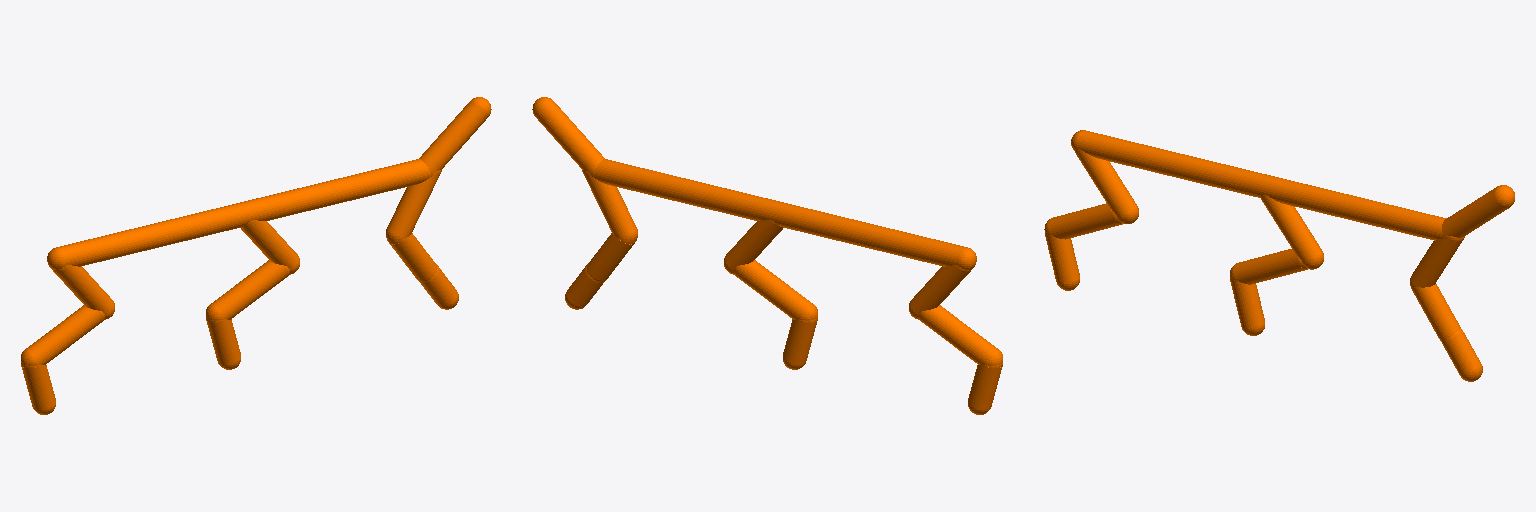
URDF robot description (converted_robot):
<?xml version='1.0' encoding='utf-8'?>
<robot name="converted_robot">
   
   <link name="world">
      <inertial>
         <origin xyz="0.0 0.0 0.0" rpy="0.0 0.0 0.0" />
         <mass value="0.0" />
         <inertia ixx="0.0" iyy="0.0" izz="0.0" ixy="0" ixz="0" iyz="0" />
      </inertial>
   </link>
   <link name="torso">
      <inertial>
         <origin xyz="0.16077785102175343 0.0 0.017864205669083713" rpy="1.5248001360530306 0.0 1.5707963267948966" />
         <mass value="5.963217745332024" />
         <inertia ixx="1.859423300146082" iyy="1.849936245078124" izz="0.01571961528135071" ixy="0" ixz="0" iyz="0" />
      </inertial>
   <visual><origin xyz="0.0 0.0 0.0" rpy="0.0 1.5707963267948966 0.0" /><geometry><cylinder radius="0.046" length="1.6" /></geometry><material name="torso_material"><color rgba="1.0 0.5 0.0 1.0" /></material></visual><visual><origin xyz="0.8 0.0 4.898587196589413e-17" rpy="0 0 0" /><geometry><sphere radius="0.046" /></geometry><material name="torso_material"><color rgba="1.0 0.5 0.0 1.0" /></material></visual><visual><origin xyz="-0.8 0.0 -4.898587196589413e-17" rpy="0 0 0" /><geometry><sphere radius="0.046" /></geometry><material name="torso_material"><color rgba="1.0 0.5 0.0 1.0" /></material></visual><visual><origin xyz="0.9 0.0 0.1" rpy="0.0 0.8726646259971648 0.0" /><geometry><cylinder radius="0.046" length="0.3" /></geometry><material name="head_material"><color rgba="1.0 0.5 0.0 1.0" /></material></visual><visual><origin xyz="1.0149066664678468 0.0 0.19641814145298092" rpy="0 0 0" /><geometry><sphere radius="0.046" /></geometry><material name="head_material"><color rgba="1.0 0.5 0.0 1.0" /></material></visual><visual><origin xyz="0.7850933335321533 0.0 0.003581858547019104" rpy="0 0 0" /><geometry><sphere radius="0.046" /></geometry><material name="head_material"><color rgba="1.0 0.5 0.0 1.0" /></material></visual></link>
   <link name="rootx_jointbody">
      <inertial>
         <origin xyz="0.0 0.0 0.0" rpy="0.0 0.0 0.0" />
         <mass value="0.001" />
         <inertia ixx="1e-09" iyy="1e-09" izz="1e-09" ixy="0" ixz="0" iyz="0" />
      </inertial>
   </link>
   <joint type="fixed" name="rootx">
      <parent link="world" />
      <child link="rootx_jointbody" />
      <origin xyz="0.0 0.0 0.7" rpy="0.0 0.0 0.0" />
   </joint>
   <link name="rootz_jointbody">
      <inertial>
         <origin xyz="0.0 0.0 0.0" rpy="0.0 0.0 0.0" />
         <mass value="0.001" />
         <inertia ixx="1e-09" iyy="1e-09" izz="1e-09" ixy="0" ixz="0" iyz="0" />
      </inertial>
   </link>
   <joint type="fixed" name="rootz">
      <parent link="rootx_jointbody" />
      <child link="rootz_jointbody" />
      <origin xyz="0.0 0.0 0.0" rpy="0.0 0.0 0.0" />
   </joint>
   <link name="rooty_jointbody">
      <inertial>
         <origin xyz="0.0 0.0 0.0" rpy="0.0 0.0 0.0" />
         <mass value="0.001" />
         <inertia ixx="1e-09" iyy="1e-09" izz="1e-09" ixy="0" ixz="0" iyz="0" />
      </inertial>
   </link>
   <joint type="revolute" name="rooty">
      <parent link="rootz_jointbody" />
      <child link="rooty_jointbody" />
      <origin xyz="0.0 0.0 0.0" rpy="0.0 0.0 0.0" />
      <axis xyz="0.0 1.0 0.0" />
      <limit lower="0.0" upper="0.0" effort="100" velocity="100" />
   </joint>
   <joint type="fixed" name="rooty_offset">
      <parent link="rooty_jointbody" />
      <child link="torso" />
      <origin xyz="-0.0 -0.0 -0.0" rpy="0.0 0.0 0.0" />
   </joint>
   <link name="bthigh">
      <inertial>
         <origin xyz="0.1 0.0 -0.13" rpy="3.141592653589793 0.6632251157578448 3.141592653589793" />
         <mass value="1.035799522673031" />
         <inertia ixx="0.011303656212270112" iyy="0.011303656212270112" izz="0.0010576138144040431" ixy="0" ixz="0" iyz="0" />
      </inertial>
   <visual><origin xyz="0.1 0.0 -0.13" rpy="0.0 -3.8048177693476384 0.0" /><geometry><cylinder radius="0.046" length="0.29" /></geometry><material name="bthigh_material"><color rgba="1.0 0.5 0.0 1.0" /></material></visual><visual><origin xyz="0.18927091392222045 0.0 -0.2442615592729747" rpy="0 0 0" /><geometry><sphere radius="0.046" /></geometry><material name="bthigh_material"><color rgba="1.0 0.5 0.0 1.0" /></material></visual><visual><origin xyz="0.010729086077779573 0.0 -0.01573844072702532" rpy="0 0 0" /><geometry><sphere radius="0.046" /></geometry><material name="bthigh_material"><color rgba="1.0 0.5 0.0 1.0" /></material></visual></link>
   <link name="bthigh_jointbody">
      <inertial>
         <origin xyz="0.0 0.0 0.0" rpy="0.0 0.0 0.0" />
         <mass value="0.001" />
         <inertia ixx="1e-09" iyy="1e-09" izz="1e-09" ixy="0" ixz="0" iyz="0" />
      </inertial>
   </link>
   <joint type="revolute" name="bthigh">
      <parent link="torso" />
      <child link="bthigh_jointbody" />
      <origin xyz="-0.8 0.0 0.0" rpy="0.0 0.0 0.0" />
      <axis xyz="0.0 1.0 0.0" />
      <limit lower="-0.5235987755982988" upper="1.0471975511965976" effort="100" velocity="100" />
   </joint>
   <joint type="fixed" name="bthigh_offset">
      <parent link="bthigh_jointbody" />
      <child link="bthigh" />
      <origin xyz="-0.0 -0.0 -0.0" rpy="0.0 0.0 0.0" />
   </joint>
   <link name="bshin">
      <inertial>
         <origin xyz="-0.14 0.0 -0.07" rpy="3.141592653589793 -1.117010721276371 3.141592653589793" />
         <mass value="1.0652814825214094" />
         <inertia ixx="0.012258635855678785" iyy="0.012258635855678785" izz="0.0010888057279236274" ixy="0" ixz="0" iyz="0" />
      </inertial>
   <visual><origin xyz="-0.14 0.0 -0.07" rpy="0.0 -2.0245819323134224 0.0" /><geometry><cylinder radius="0.046" length="0.3" /></geometry><material name="bshin_material"><color rgba="1.0 0.5 0.0 1.0" /></material></visual><visual><origin xyz="-0.27481910694487505 0.0 -0.13575567201836164" rpy="0 0 0" /><geometry><sphere radius="0.046" /></geometry><material name="bshin_material"><color rgba="1.0 0.5 0.0 1.0" /></material></visual><visual><origin xyz="-0.00518089305512498 0.0 -0.004244327981638388" rpy="0 0 0" /><geometry><sphere radius="0.046" /></geometry><material name="bshin_material"><color rgba="1.0 0.5 0.0 1.0" /></material></visual></link>
   <link name="bshin_jointbody">
      <inertial>
         <origin xyz="0.0 0.0 0.0" rpy="0.0 0.0 0.0" />
         <mass value="0.001" />
         <inertia ixx="1e-09" iyy="1e-09" izz="1e-09" ixy="0" ixz="0" iyz="0" />
      </inertial>
   </link>
   <joint type="revolute" name="bshin">
      <parent link="bthigh" />
      <child link="bshin_jointbody" />
      <origin xyz="0.16 0.0 -0.25" rpy="0.0 0.0 0.0" />
      <axis xyz="0.0 1.0 0.0" />
      <limit lower="-0.8726646259971648" upper="0.8726646259971648" effort="100" velocity="100" />
   </joint>
   <joint type="fixed" name="bshin_offset">
      <parent link="bshin_jointbody" />
      <child link="bshin" />
      <origin xyz="-0.0 -0.0 -0.0" rpy="0.0 0.0 0.0" />
   </joint>
   <link name="bfoot">
      <inertial>
         <origin xyz="0.03 0.0 -0.097" rpy="0.0 -0.26179938779914935 0.0" />
         <mass value="0.7350835322195705" />
         <inertia ixx="0.004262892489119753" iyy="0.004262892489119753" izz="0.000739456296504282" ixy="0" ixz="0" iyz="0" />
      </inertial>
   <visual><origin xyz="0.03 0.0 -0.097" rpy="0.0 -0.2617993877991494 0.0" /><geometry><cylinder radius="0.046" length="0.188" /></geometry><material name="bfoot_material"><color rgba="1.0 0.5 0.0 1.0" /></material></visual><visual><origin xyz="0.005671009760363048 0.0 -0.006202972328827577" rpy="0 0 0" /><geometry><sphere radius="0.046" /></geometry><material name="bfoot_material"><color rgba="1.0 0.5 0.0 1.0" /></material></visual><visual><origin xyz="0.05432899023963695 0.0 -0.18779702767117243" rpy="0 0 0" /><geometry><sphere radius="0.046" /></geometry><material name="bfoot_material"><color rgba="1.0 0.5 0.0 1.0" /></material></visual></link>
   <link name="bfoot_jointbody">
      <inertial>
         <origin xyz="0.0 0.0 0.0" rpy="0.0 0.0 0.0" />
         <mass value="0.001" />
         <inertia ixx="1e-09" iyy="1e-09" izz="1e-09" ixy="0" ixz="0" iyz="0" />
      </inertial>
   </link>
   <joint type="revolute" name="bfoot">
      <parent link="bshin" />
      <child link="bfoot_jointbody" />
      <origin xyz="-0.28 0.0 -0.14" rpy="0.0 0.0 0.0" />
      <axis xyz="0.0 1.0 0.0" />
      <limit lower="-4.014257279586958" upper="0.8726646259971648" effort="100" velocity="100" />
   </joint>
   <joint type="fixed" name="bfoot_offset">
      <parent link="bfoot_jointbody" />
      <child link="bfoot" />
      <origin xyz="-0.0 -0.0 -0.0" rpy="0.0 0.0 0.0" />
   </joint>
   <link name="mthigh">
      <inertial>
         <origin xyz="0.1 0.0 -0.13" rpy="3.141592653589793 0.6632251157578448 3.141592653589793" />
         <mass value="1.035799522673031" />
         <inertia ixx="0.011303656212270112" iyy="0.011303656212270112" izz="0.0010576138144040431" ixy="0" ixz="0" iyz="0" />
      </inertial>
   <visual><origin xyz="0.1 0.0 -0.13" rpy="0.0 -3.8048177693476384 0.0" /><geometry><cylinder radius="0.046" length="0.29" /></geometry><material name="mthigh_material"><color rgba="1.0 0.5 0.0 1.0" /></material></visual><visual><origin xyz="0.18927091392222045 0.0 -0.2442615592729747" rpy="0 0 0" /><geometry><sphere radius="0.046" /></geometry><material name="mthigh_material"><color rgba="1.0 0.5 0.0 1.0" /></material></visual><visual><origin xyz="0.010729086077779573 0.0 -0.01573844072702532" rpy="0 0 0" /><geometry><sphere radius="0.046" /></geometry><material name="mthigh_material"><color rgba="1.0 0.5 0.0 1.0" /></material></visual></link>
   <link name="mthigh_jointbody">
      <inertial>
         <origin xyz="0.0 0.0 0.0" rpy="0.0 0.0 0.0" />
         <mass value="0.001" />
         <inertia ixx="1e-09" iyy="1e-09" izz="1e-09" ixy="0" ixz="0" iyz="0" />
      </inertial>
   </link>
   <joint type="revolute" name="mthigh">
      <parent link="torso" />
      <child link="mthigh_jointbody" />
      <origin xyz="0.0 0.0 0.0" rpy="0.0 0.0 0.0" />
      <axis xyz="0.0 1.0 0.0" />
      <limit lower="-0.5235987755982988" upper="1.0471975511965976" effort="100" velocity="100" />
   </joint>
   <joint type="fixed" name="mthigh_offset">
      <parent link="mthigh_jointbody" />
      <child link="mthigh" />
      <origin xyz="-0.0 -0.0 -0.0" rpy="0.0 0.0 0.0" />
   </joint>
   <link name="mshin">
      <inertial>
         <origin xyz="-0.14 0.0 -0.07" rpy="3.141592653589793 -1.117010721276371 3.141592653589793" />
         <mass value="1.0652814825214094" />
         <inertia ixx="0.012258635855678785" iyy="0.012258635855678785" izz="0.0010888057279236274" ixy="0" ixz="0" iyz="0" />
      </inertial>
   <visual><origin xyz="-0.14 0.0 -0.07" rpy="0.0 -2.0245819323134224 0.0" /><geometry><cylinder radius="0.046" length="0.3" /></geometry><material name="mshin_material"><color rgba="1.0 0.5 0.0 1.0" /></material></visual><visual><origin xyz="-0.27481910694487505 0.0 -0.13575567201836164" rpy="0 0 0" /><geometry><sphere radius="0.046" /></geometry><material name="mshin_material"><color rgba="1.0 0.5 0.0 1.0" /></material></visual><visual><origin xyz="-0.00518089305512498 0.0 -0.004244327981638388" rpy="0 0 0" /><geometry><sphere radius="0.046" /></geometry><material name="mshin_material"><color rgba="1.0 0.5 0.0 1.0" /></material></visual></link>
   <link name="mshin_jointbody">
      <inertial>
         <origin xyz="0.0 0.0 0.0" rpy="0.0 0.0 0.0" />
         <mass value="0.001" />
         <inertia ixx="1e-09" iyy="1e-09" izz="1e-09" ixy="0" ixz="0" iyz="0" />
      </inertial>
   </link>
   <joint type="revolute" name="mshin">
      <parent link="mthigh" />
      <child link="mshin_jointbody" />
      <origin xyz="0.16 0.0 -0.25" rpy="0.0 0.0 0.0" />
      <axis xyz="0.0 1.0 0.0" />
      <limit lower="-0.8726646259971648" upper="0.8726646259971648" effort="100" velocity="100" />
   </joint>
   <joint type="fixed" name="mshin_offset">
      <parent link="mshin_jointbody" />
      <child link="mshin" />
      <origin xyz="-0.0 -0.0 -0.0" rpy="0.0 0.0 0.0" />
   </joint>
   <link name="mfoot">
      <inertial>
         <origin xyz="0.03 0.0 -0.097" rpy="0.0 -0.26179938779914935 0.0" />
         <mass value="0.7350835322195705" />
         <inertia ixx="0.004262892489119753" iyy="0.004262892489119753" izz="0.000739456296504282" ixy="0" ixz="0" iyz="0" />
      </inertial>
   <visual><origin xyz="0.03 0.0 -0.097" rpy="0.0 -0.2617993877991494 0.0" /><geometry><cylinder radius="0.046" length="0.188" /></geometry><material name="mfoot_material"><color rgba="1.0 0.5 0.0 1.0" /></material></visual><visual><origin xyz="0.005671009760363048 0.0 -0.006202972328827577" rpy="0 0 0" /><geometry><sphere radius="0.046" /></geometry><material name="mfoot_material"><color rgba="1.0 0.5 0.0 1.0" /></material></visual><visual><origin xyz="0.05432899023963695 0.0 -0.18779702767117243" rpy="0 0 0" /><geometry><sphere radius="0.046" /></geometry><material name="mfoot_material"><color rgba="1.0 0.5 0.0 1.0" /></material></visual></link>
   <link name="mfoot_jointbody">
      <inertial>
         <origin xyz="0.0 0.0 0.0" rpy="0.0 0.0 0.0" />
         <mass value="0.001" />
         <inertia ixx="1e-09" iyy="1e-09" izz="1e-09" ixy="0" ixz="0" iyz="0" />
      </inertial>
   </link>
   <joint type="revolute" name="mfoot">
      <parent link="mshin" />
      <child link="mfoot_jointbody" />
      <origin xyz="-0.28 0.0 -0.14" rpy="0.0 0.0 0.0" />
      <axis xyz="0.0 1.0 0.0" />
      <limit lower="-4.014257279586958" upper="0.8726646259971648" effort="100" velocity="100" />
   </joint>
   <joint type="fixed" name="mfoot_offset">
      <parent link="mfoot_jointbody" />
      <child link="mfoot" />
      <origin xyz="-0.0 -0.0 -0.0" rpy="0.0 0.0 0.0" />
   </joint>
   <link name="fthigh">
      <inertial>
         <origin xyz="-0.07 0.0 -0.12" rpy="0.0 0.5235987755982991 0.0" />
         <mass value="0.9650428190369228" />
         <inertia ixx="0.009220201488137025" iyy="0.009220201488137025" izz="0.0009827532219570407" ixy="0" ixz="0" iyz="0" />
      </inertial>
   <visual><origin xyz="-0.07 0.0 -0.12" rpy="0.0 0.5235987755982988 0.0" /><geometry><cylinder radius="0.046" length="0.266" /></geometry><material name="fthigh_material"><color rgba="1.0 0.5 0.0 1.0" /></material></visual><visual><origin xyz="-0.003500000000000017 0.0 -0.004818621296669642" rpy="0 0 0" /><geometry><sphere radius="0.046" /></geometry><material name="fthigh_material"><color rgba="1.0 0.5 0.0 1.0" /></material></visual><visual><origin xyz="-0.1365 0.0 -0.23518137870333033" rpy="0 0 0" /><geometry><sphere radius="0.046" /></geometry><material name="fthigh_material"><color rgba="1.0 0.5 0.0 1.0" /></material></visual></link>
   <link name="fthigh_jointbody">
      <inertial>
         <origin xyz="0.0 0.0 0.0" rpy="0.0 0.0 0.0" />
         <mass value="0.001" />
         <inertia ixx="1e-09" iyy="1e-09" izz="1e-09" ixy="0" ixz="0" iyz="0" />
      </inertial>
   </link>
   <joint type="revolute" name="fthigh">
      <parent link="torso" />
      <child link="fthigh_jointbody" />
      <origin xyz="0.8 0.0 0.0" rpy="0.0 0.0 0.0" />
      <axis xyz="0.0 1.0 0.0" />
      <limit lower="-0.9948376736367679" upper="0.006981317007977318" effort="100" velocity="100" />
   </joint>
   <joint type="fixed" name="fthigh_offset">
      <parent link="fthigh_jointbody" />
      <child link="fthigh" />
      <origin xyz="-0.0 -0.0 -0.0" rpy="0.0 0.0 0.0" />
   </joint>
   <link name="fshin">
      <inertial>
         <origin xyz="0.065 0.0 -0.09" rpy="0.0 -0.593411945678072 0.0" />
         <mass value="0.8058402358556788" />
         <inertia ixx="0.005517573943563105" iyy="0.005517573943563105" izz="0.0008143168889512844" ixy="0" ixz="0" iyz="0" />
      </inertial>
   <visual><origin xyz="0.065 0.0 -0.09" rpy="0.0 -0.5934119456780721 0.0" /><geometry><cylinder radius="0.046" length="0.212" /></geometry><material name="fshin_material"><color rgba="1.0 0.5 0.0 1.0" /></material></visual><visual><origin xyz="0.005725552232100833 0.0 -0.002122017309165586" rpy="0 0 0" /><geometry><sphere radius="0.046" /></geometry><material name="fshin_material"><color rgba="1.0 0.5 0.0 1.0" /></material></visual><visual><origin xyz="0.12427444776789917 0.0 -0.1778779826908344" rpy="0 0 0" /><geometry><sphere radius="0.046" /></geometry><material name="fshin_material"><color rgba="1.0 0.5 0.0 1.0" /></material></visual></link>
   <link name="fshin_jointbody">
      <inertial>
         <origin xyz="0.0 0.0 0.0" rpy="0.0 0.0 0.0" />
         <mass value="0.001" />
         <inertia ixx="1e-09" iyy="1e-09" izz="1e-09" ixy="0" ixz="0" iyz="0" />
      </inertial>
   </link>
   <joint type="revolute" name="fshin">
      <parent link="fthigh" />
      <child link="fshin_jointbody" />
      <origin xyz="-0.14 0.0 -0.24" rpy="0.0 0.0 0.0" />
      <axis xyz="0.0 1.0 0.0" />
      <limit lower="-1.2217304763960306" upper="0.8726646259971648" effort="100" velocity="100" />
   </joint>
   <joint type="fixed" name="fshin_offset">
      <parent link="fshin_jointbody" />
      <child link="fshin" />
      <origin xyz="-0.0 -0.0 -0.0" rpy="0.0 0.0 0.0" />
   </joint>
   <link name="ffoot">
      <inertial>
         <origin xyz="0.045 0.0 -0.07" rpy="0.0 -0.593411945678072 0.0" />
         <mass value="0.5935701249473536" />
         <inertia ixx="0.0023682638214235574" iyy="0.0023682638214235574" izz="0.0005897351116102766" ixy="0" ixz="0" iyz="0" />
      </inertial>
   <visual><origin xyz="0.045 0.0 -0.07" rpy="0.0 -0.5934119456780721 0.0" /><geometry><cylinder radius="0.046" length="0.14" /></geometry><material name="ffoot_material"><color rgba="1.0 0.5 0.0 1.0" /></material></visual><visual><origin xyz="0.005856496757047712 0.0 -0.011967369921147088" rpy="0 0 0" /><geometry><sphere radius="0.046" /></geometry><material name="ffoot_material"><color rgba="1.0 0.5 0.0 1.0" /></material></visual><visual><origin xyz="0.08414350324295228 0.0 -0.12803263007885293" rpy="0 0 0" /><geometry><sphere radius="0.046" /></geometry><material name="ffoot_material"><color rgba="1.0 0.5 0.0 1.0" /></material></visual></link>
   <link name="ffoot_jointbody">
      <inertial>
         <origin xyz="0.0 0.0 0.0" rpy="0.0 0.0 0.0" />
         <mass value="0.001" />
         <inertia ixx="1e-09" iyy="1e-09" izz="1e-09" ixy="0" ixz="0" iyz="0" />
      </inertial>
   </link>
   <joint type="revolute" name="ffoot">
      <parent link="fshin" />
      <child link="ffoot_jointbody" />
      <origin xyz="0.13 0.0 -0.18" rpy="0.0 0.0 0.0" />
      <axis xyz="0.0 1.0 0.0" />
      <limit lower="-0.4886921905584123" upper="0.4886921905584123" effort="100" velocity="100" />
   </joint>
   <joint type="fixed" name="ffoot_offset">
      <parent link="ffoot_jointbody" />
      <child link="ffoot" />
      <origin xyz="-0.0 -0.0 -0.0" rpy="0.0 0.0 0.0" />
   </joint>
</robot>

--- What the picture shows (computed from the rendered views, not written in the file) ---
Views: 3 orthographic renders of the robot side by side, from view 1: azimuth 30°, elevation 25°; view 2: azimuth 150°, elevation 25°; view 3: azimuth 330°, elevation 25°.
Robot: converted_robot — 23 links, 22 joints (10 revolute, 12 fixed); root link world; default pose: all joints at 0.
Links seen in each view (by area): view 1: torso, bshin, mshin, fthigh, bthigh, mthigh, mfoot, bfoot, fshin, ffoot; view 2: torso, bshin, mshin, fthigh, bthigh, mthigh, mfoot, bfoot, fshin, ffoot; view 3: torso, bthigh, mthigh, bshin, mshin, fshin, fthigh, bfoot, mfoot, ffoot.
Boxes of the visible links, x1,y1,x2,y2 form: torso: (47, 97, 491, 269); bshin: (21, 305, 104, 365); mshin: (206, 260, 289, 320); fthigh: (386, 174, 438, 241); bthigh: (52, 265, 114, 319); mthigh: (241, 220, 299, 274); mfoot: (206, 318, 240, 369); bfoot: (21, 363, 55, 414); fshin: (387, 233, 436, 281); ffoot: (419, 264, 458, 309); torso: (532, 97, 976, 269); bshin: (919, 305, 1002, 365); mshin: (734, 260, 817, 320); fthigh: (585, 174, 637, 241); bthigh: (909, 265, 971, 319); mthigh: (724, 220, 782, 274); mfoot: (783, 318, 817, 369); bfoot: (968, 363, 1002, 414); fshin: (587, 233, 636, 281); ffoot: (565, 264, 604, 309); torso: (1071, 130, 1514, 242); bthigh: (1075, 149, 1138, 223); mthigh: (1260, 195, 1323, 269); bshin: (1044, 203, 1122, 239); mshin: (1230, 249, 1307, 284); fshin: (1411, 284, 1460, 341); fthigh: (1410, 238, 1461, 287); bfoot: (1045, 233, 1079, 290); mfoot: (1230, 278, 1264, 335); ffoot: (1442, 329, 1482, 381).
Size in the robot's own frame: 2.02 by 0.092 by 0.8662 metres.
Geometry: primitives only (box / cylinder / sphere), no mesh files.
